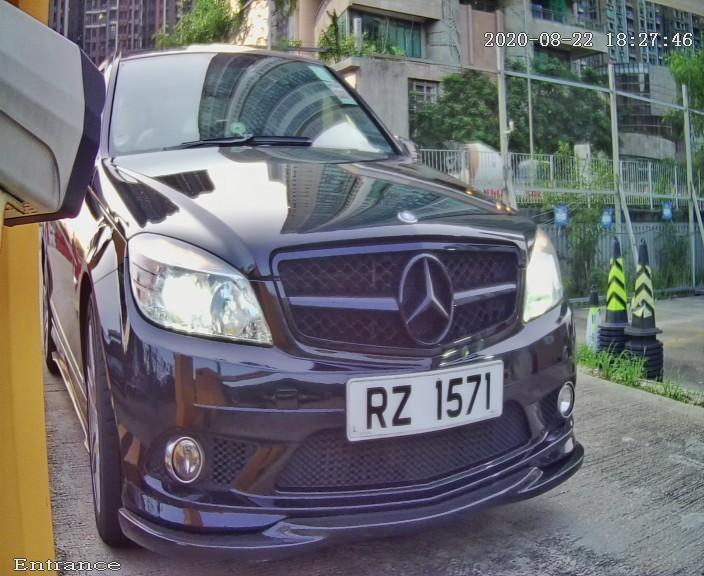Car: (16, 6, 610, 576)
License Plate: (334, 353, 507, 445)
